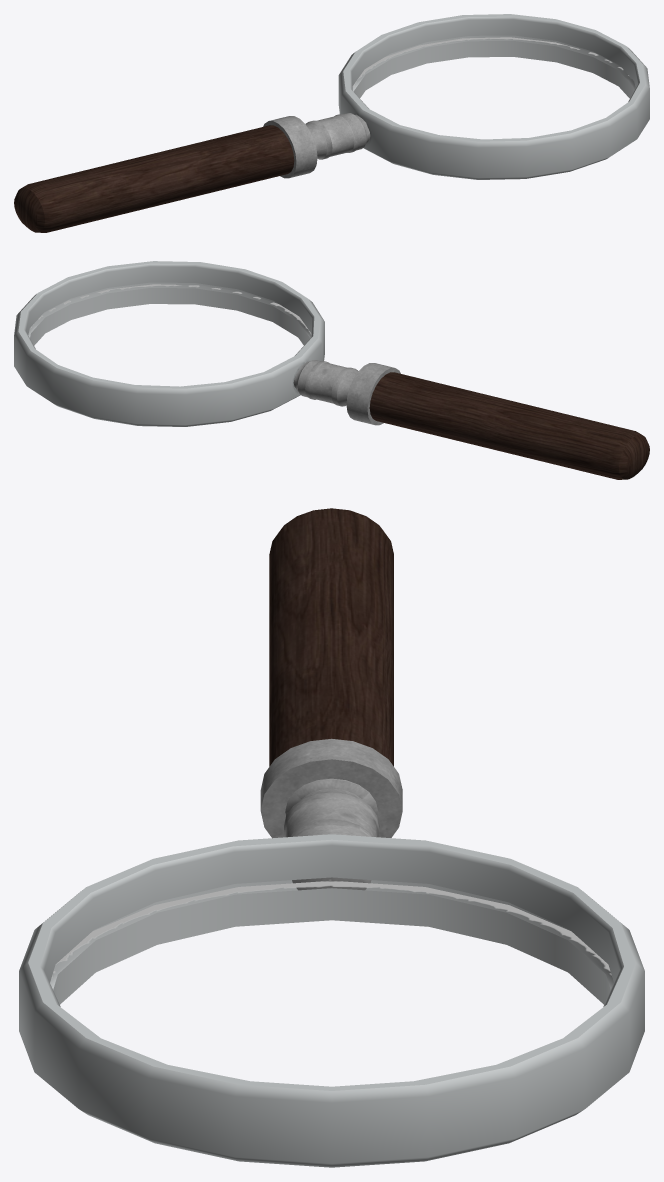
The model's file is magnifying_glass (2).glb.
3 views of the same model, one above another, from view 1: azimuth 30°, elevation 25°; view 2: azimuth 150°, elevation 25°; view 3: azimuth 270°, elevation 25° (orthographic). The views are drawn at different scales.
Visible parts, largest first — view 1: polySurface4, pasted__polySurface3, pasted__polySurface1, pasted__polySurface4, polySurface5; view 2: polySurface4, pasted__polySurface3, pasted__polySurface1, pasted__polySurface4, polySurface5; view 3: polySurface4, pasted__polySurface3, pasted__polySurface4, pasted__polySurface1, polySurface5.
Part boxes in pixels (left/top/right/bottom): polySurface4: left=338, top=14, right=649, bottom=179; pasted__polySurface3: left=14, top=125, right=294, bottom=232; pasted__polySurface1: left=305, top=113, right=370, bottom=159; pasted__polySurface4: left=263, top=116, right=317, bottom=178; polySurface5: left=352, top=37, right=628, bottom=86; polySurface4: left=14, top=261, right=324, bottom=426; pasted__polySurface3: left=369, top=372, right=649, bottom=479; pasted__polySurface1: left=293, top=360, right=358, bottom=406; pasted__polySurface4: left=346, top=363, right=400, bottom=425; polySurface5: left=31, top=284, right=311, bottom=334; polySurface4: left=19, top=834, right=644, bottom=1167; pasted__polySurface3: left=269, top=508, right=393, bottom=766; pasted__polySurface4: left=260, top=738, right=402, bottom=838; pasted__polySurface1: left=284, top=778, right=379, bottom=890; polySurface5: left=51, top=881, right=611, bottom=977.
Bounding box in the file's own units: 2 × 0.1628 × 0.8944.
Materials: 1 (1 with a texture image).
